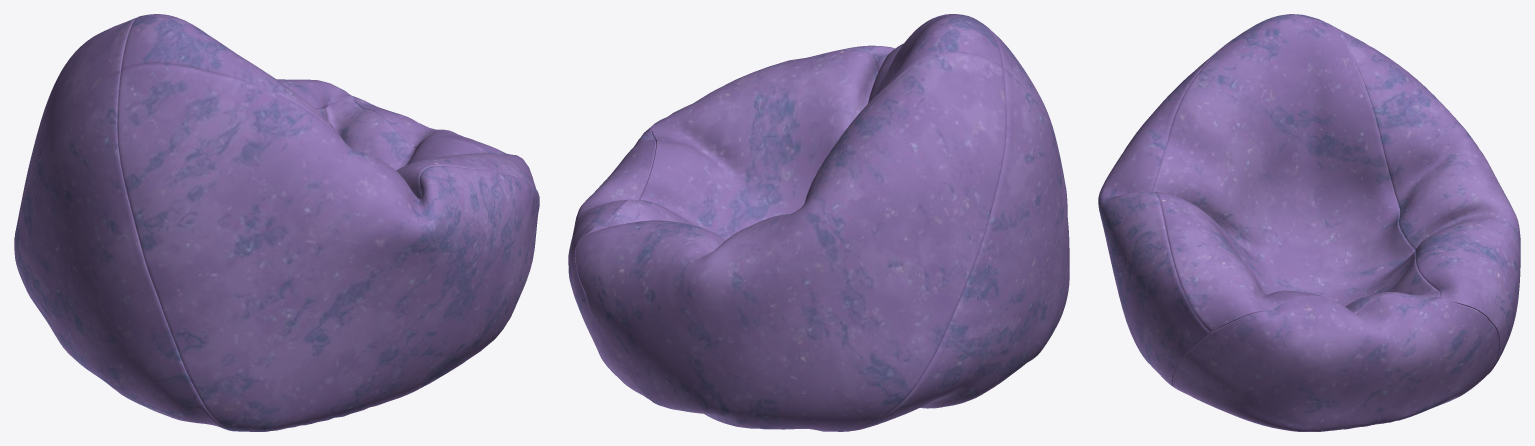
The model's file is puff.glb.
3 renders of one model, left to right at view 1: azimuth 30°, elevation 25°; view 2: azimuth 150°, elevation 25°; view 3: azimuth 270°, elevation 25°, orthographic. The views are drawn at different scales.
Visible parts, largest first — view 1: bean_bag_chair_mesh_n3d; view 2: bean_bag_chair_mesh_n3d; view 3: bean_bag_chair_mesh_n3d.
Boxes of the visible parts, x1,y1,x2,y2 form: bean_bag_chair_mesh_n3d: (14, 14, 539, 431); bean_bag_chair_mesh_n3d: (568, 14, 1069, 431); bean_bag_chair_mesh_n3d: (1098, 14, 1520, 431).
Size of the model in its own units: 0.0469 by 0.0364 by 0.0478.
Materials: 1 (1 with a texture image).
